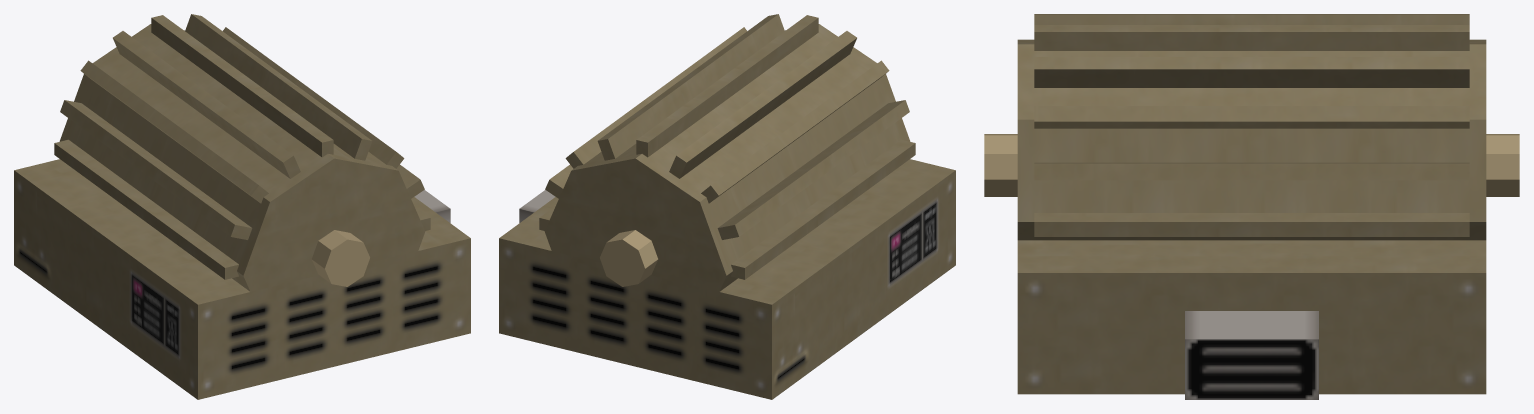
File: generator.obj
3 renders of one model, left to right at view 1: azimuth 30°, elevation 25°; view 2: azimuth 150°, elevation 25°; view 3: azimuth 270°, elevation 25°, orthographic. The views are drawn at different scales.
Parts seen in each view (by area): view 1: 立方体.2; view 2: 立方体.2; view 3: 立方体.2.
Part boxes in pixels (x1,y1,x2,y2): 立方体.2: [14, 14, 470, 399]; 立方体.2: [499, 14, 955, 399]; 立方体.2: [984, 14, 1519, 399].
Size of the model in its own units: 0.875 by 0.5792 by 1.
